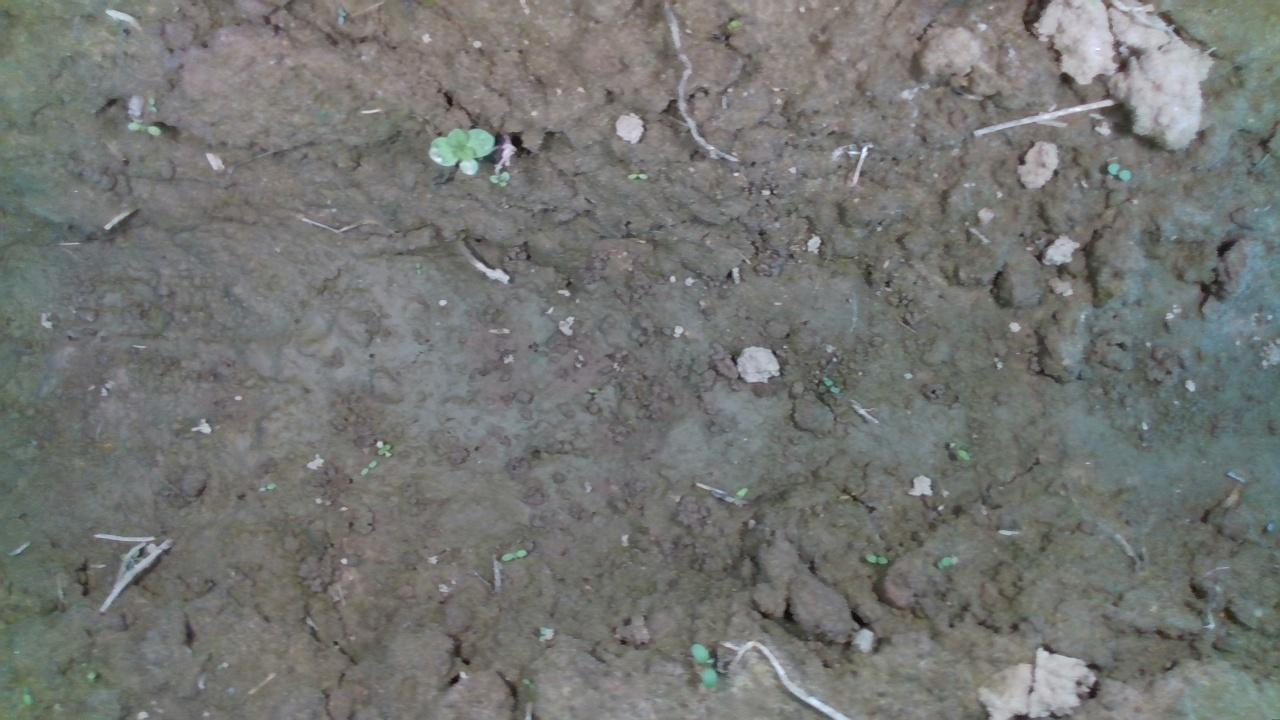weed: (363, 440, 395, 459)
